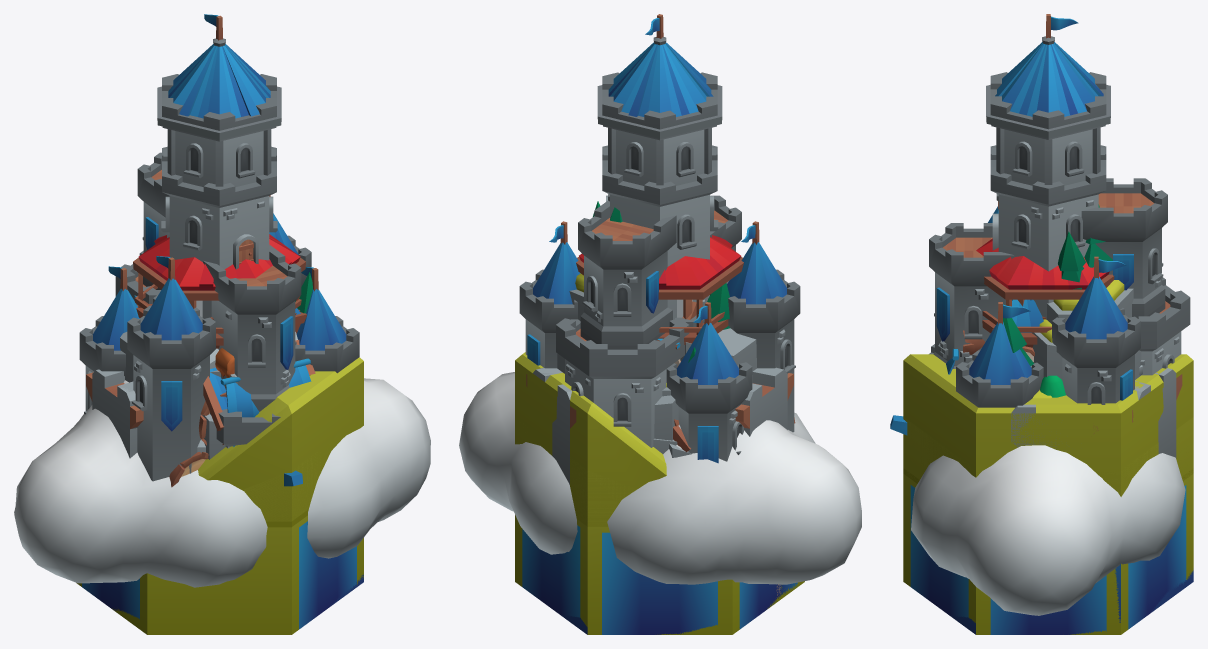
Rendered from tablero.glb.
The picture shows the model from 3 angles, left to right: view 1: azimuth 30°, elevation 25°; view 2: azimuth 150°, elevation 25°; view 3: azimuth 270°, elevation 25°; orthographic projection.
Visible parts, largest first — view 1: building_castle_blue, cloud_big, hex_grass_sloped_high, hex_river_B, hex_river_I, building_tower_B_top_red, hex_grass_sloped_low, hex_river_crossing_A, wall_corner_A_inside, ship_blue_full, building_watermill_blue, mountain_C (+3 smaller); view 2: building_castle_blue, cloud_big, hex_grass_sloped_high, hex_river_I, hex_river_B, building_tower_B_top_red, wall_corner_A_inside, mountain_C, wall_corner_A_outside, hex_grass_sloped_low, hex_river_crossing_A, mountain_B_grass_trees (+3 smaller); view 3: building_castle_blue, cloud_big, hex_grass_sloped_high, hex_river_B, building_tower_B_top_red, hex_river_crossing_B, hex_river_I, hex_grass_sloped_low, mountain_B_grass_trees, hex_river_crossing_A, mountain_B, wall_corner_A_inside (+5 smaller).
Part boxes in pixels (left/top/right/bottom): building_castle_blue: left=79, top=14, right=359, bottom=481; cloud_big: left=14, top=378, right=430, bottom=587; hex_grass_sloped_high: left=198, top=357, right=363, bottom=521; hex_river_B: left=147, top=515, right=307, bottom=634; hex_river_I: left=292, top=521, right=363, bottom=634; building_tower_B_top_red: left=133, top=234, right=305, bottom=348; hex_grass_sloped_low: left=242, top=452, right=320, bottom=521; hex_river_crossing_A: left=77, top=573, right=147, bottom=623; wall_corner_A_inside: left=92, top=369, right=143, bottom=458; ship_blue_full: left=134, top=295, right=311, bottom=486; building_watermill_blue: left=203, top=339, right=315, bottom=444; mountain_C: left=120, top=332, right=237, bottom=459; building_castle_blue: left=519, top=14, right=800, bottom=463; cloud_big: left=459, top=372, right=861, bottom=584; hex_grass_sloped_high: left=515, top=352, right=666, bottom=526; hex_river_I: left=587, top=527, right=732, bottom=634; hex_river_B: left=515, top=515, right=609, bottom=626; building_tower_B_top_red: left=576, top=235, right=743, bottom=344; wall_corner_A_inside: left=526, top=373, right=793, bottom=484; mountain_C: left=654, top=328, right=756, bottom=440; wall_corner_A_outside: left=536, top=368, right=787, bottom=473; hex_grass_sloped_low: left=515, top=423, right=634, bottom=526; hex_river_crossing_A: left=733, top=581, right=799, bottom=630; mountain_B_grass_trees: left=575, top=201, right=730, bottom=362; building_castle_blue: left=929, top=14, right=1190, bottom=407; cloud_big: left=911, top=445, right=1185, bottom=615; hex_grass_sloped_high: left=903, top=354, right=1193, bottom=614; hex_river_B: left=910, top=474, right=1193, bottom=634; building_tower_B_top_red: left=976, top=238, right=1114, bottom=347; hex_river_crossing_B: left=976, top=568, right=1120, bottom=634; hex_river_I: left=903, top=474, right=975, bottom=622; hex_grass_sloped_low: left=903, top=417, right=1193, bottom=620; mountain_B_grass_trees: left=1003, top=204, right=1124, bottom=398; hex_river_crossing_A: left=1061, top=569, right=1119, bottom=634; mountain_B: left=1032, top=288, right=1141, bottom=379; wall_corner_A_inside: left=1132, top=368, right=1176, bottom=456.
Bounding box in the file's own units: 3.61 × 4.98 × 2.41.
Materials: 3 (3 with a texture image).
